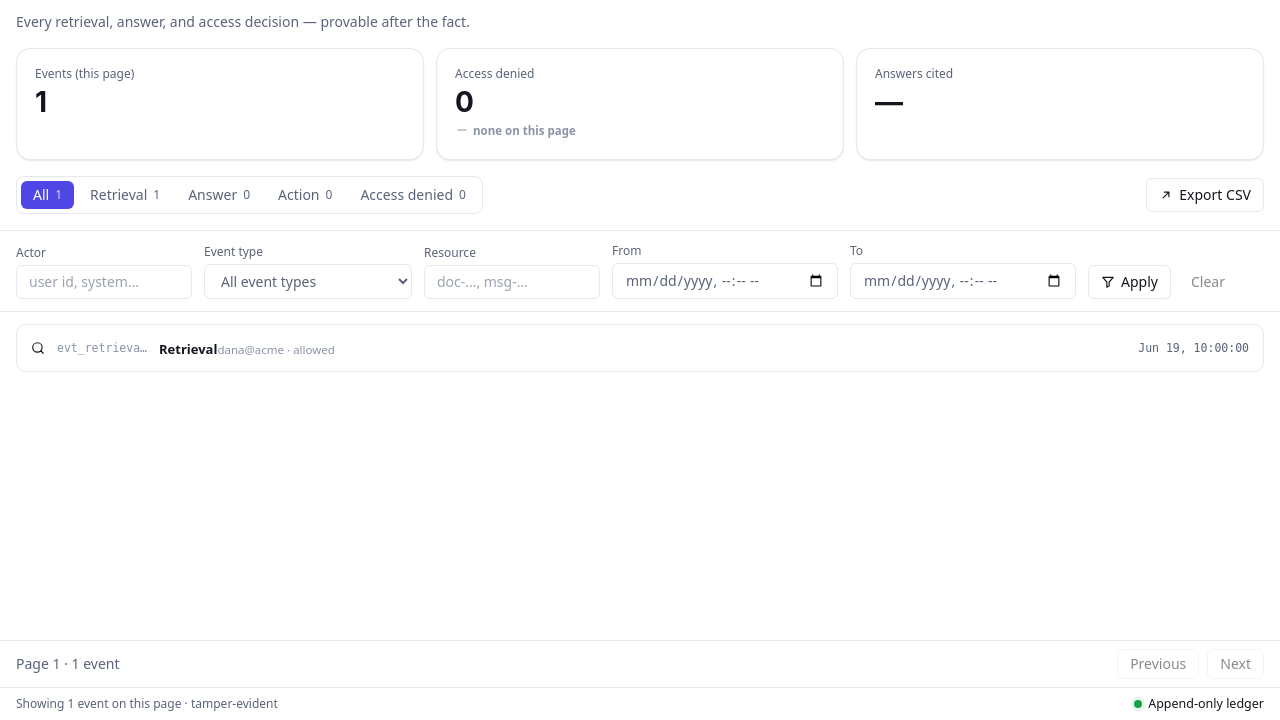
Test case: AuditPanel › closes the drawer from its close control
Click the button with aria-label "audit event" at (102, 348), box x1=16 y1=324 x2=1264 y2=372
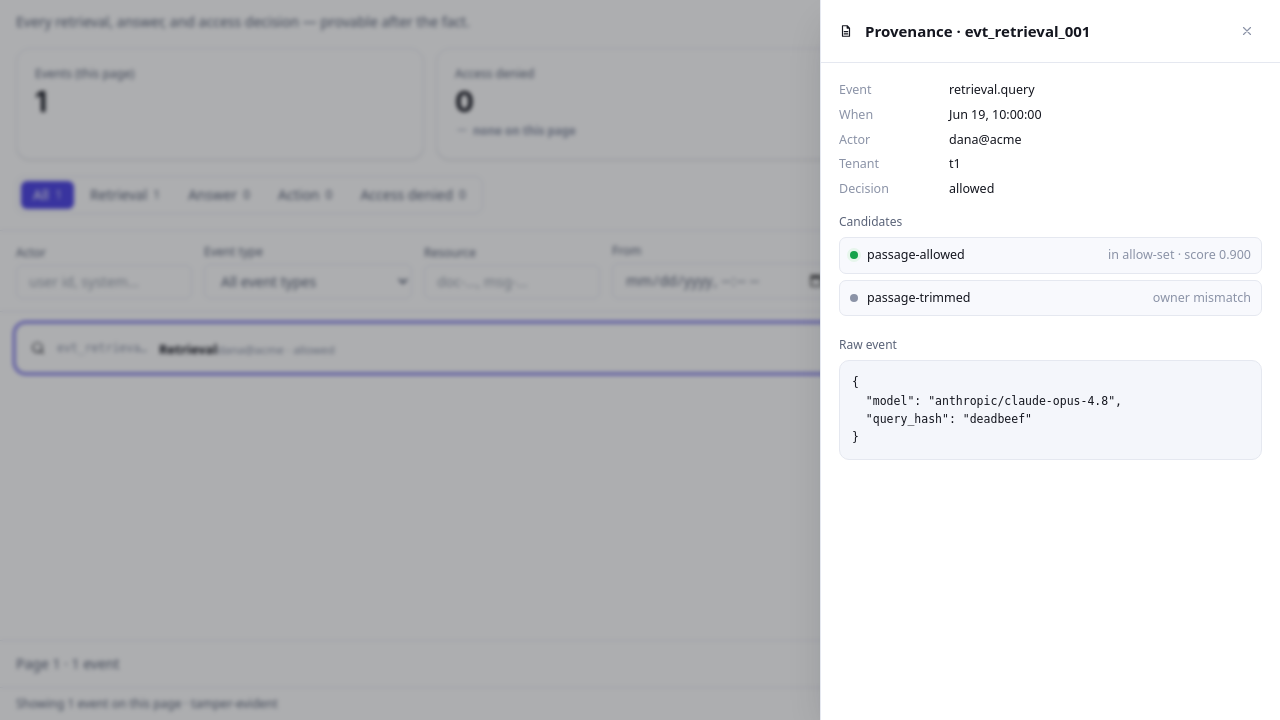
Click the button named "close" at (1247, 31), box x1=1232 y1=16 x2=1262 y2=46
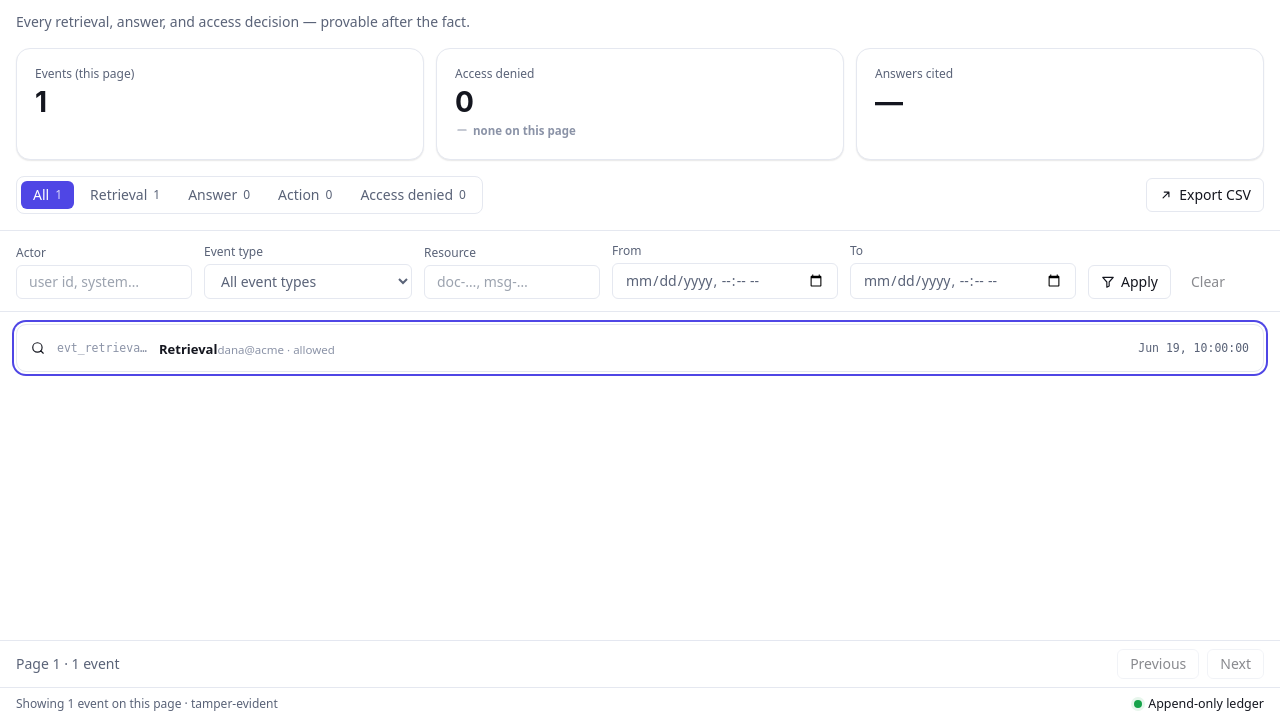
Expected: the dialog is gone
